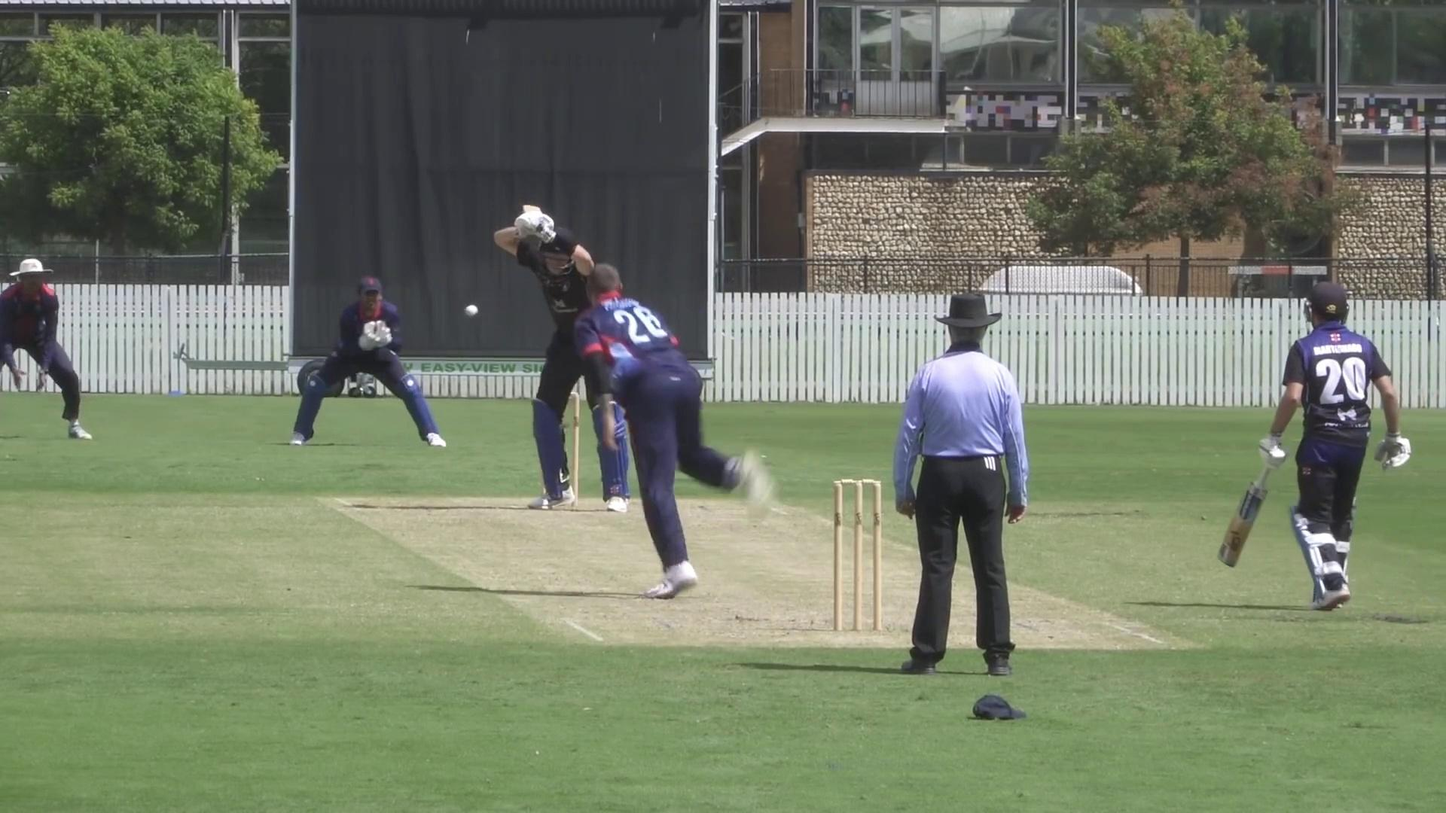ball: (461, 301, 482, 321)
